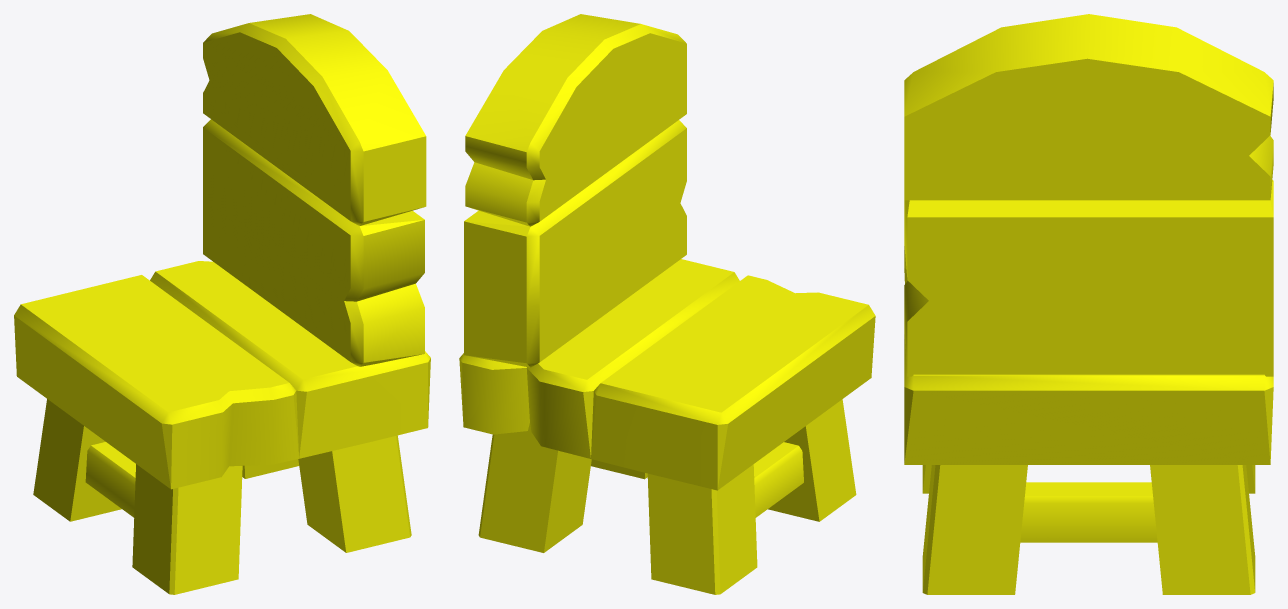
File: kaykit-dungeonremastered-chair.glb
3 views of the same model, side by side, from view 1: azimuth 30°, elevation 25°; view 2: azimuth 150°, elevation 25°; view 3: azimuth 270°, elevation 25° (orthographic). The views are drawn at different scales.
Visible parts, largest first — view 1: chair; view 2: chair; view 3: chair.
Part boxes in pixels (x1,y1,x2,y2): chair: [14, 14, 430, 594]; chair: [459, 14, 875, 594]; chair: [904, 14, 1273, 594].
Bounding box in the file's own units: 0.75 × 1.23 × 0.75.
